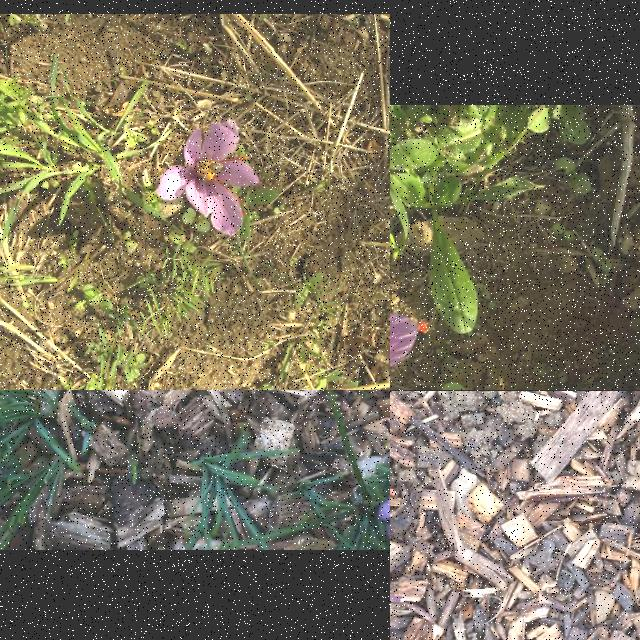flower: (156, 120, 260, 238)
